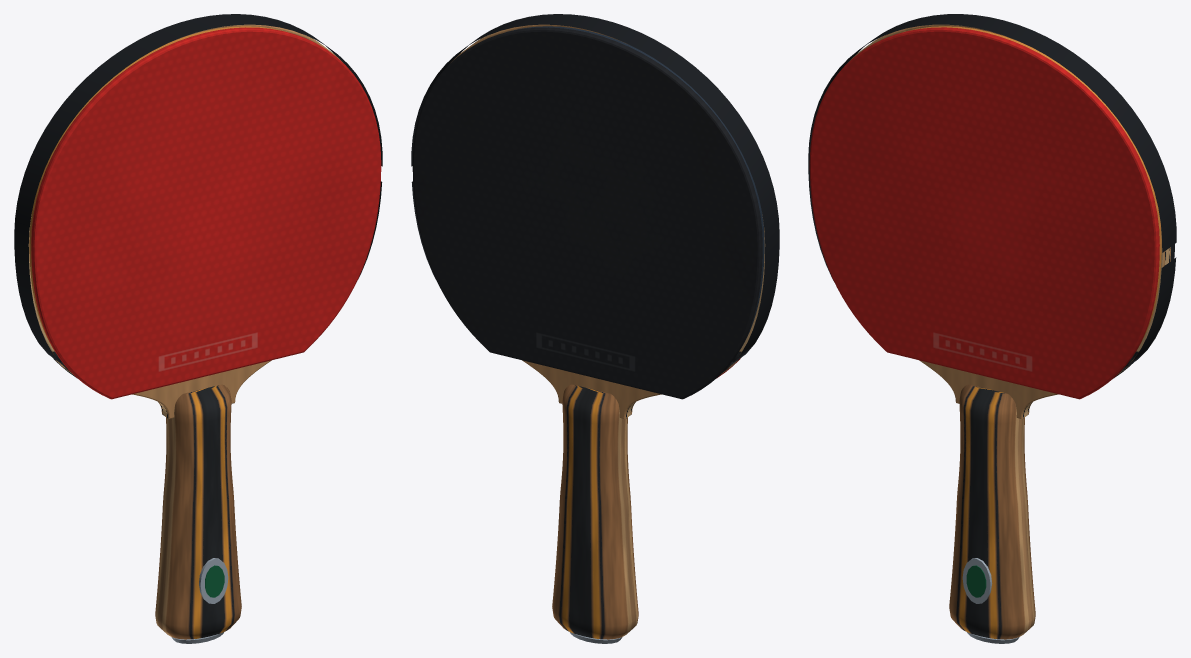
File: paddle.glb
3 views of the same model, side by side, from view 1: azimuth 30°, elevation 25°; view 2: azimuth 150°, elevation 25°; view 3: azimuth 330°, elevation 25° (orthographic).
Parts seen in each view (by area): view 1: BladeRed, Handle, BladeEdgeTape, BladeWoodCore, BladeRedSponge, HandleFrontBadge; view 2: BladeBlack, Handle, BladeEdgeTape, BladeWoodCore, BladeBlackSponge; view 3: BladeRed, Handle, BladeEdgeTape, BladeWoodCore, BladeRedSponge, HandleFrontBadge.
Part boxes in pixels (<box>): BladeRed: <box>31,27,381,399</box>; Handle: <box>155,384,241,639</box>; BladeEdgeTape: <box>14,14,382,364</box>; BladeWoodCore: <box>28,24,342,418</box>; BladeRedSponge: <box>29,26,288,349</box>; HandleFrontBadge: <box>199,558,228,603</box>; BladeBlack: <box>412,27,762,399</box>; Handle: <box>552,384,638,639</box>; BladeEdgeTape: <box>411,14,779,364</box>; BladeWoodCore: <box>451,24,765,418</box>; BladeBlackSponge: <box>505,26,764,349</box>; BladeRed: <box>809,27,1159,399</box>; Handle: <box>949,384,1035,639</box>; BladeEdgeTape: <box>808,14,1176,369</box>; BladeWoodCore: <box>848,24,1170,418</box>; BladeRedSponge: <box>902,26,1161,350</box>; HandleFrontBadge: <box>962,558,992,603</box>.
Bounding box in the file's own units: 0.1575 × 0.2597 × 0.0246.
Materials: 9 (4 with a texture image).
